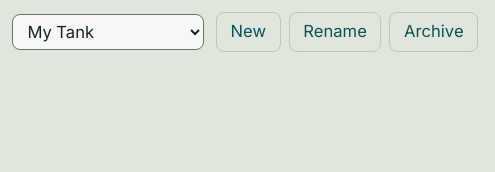
Test: TankSwitcher › creates a new tank via prompt
The width and height of the screenshot is (495, 172).
Click the button "New" at point(248, 32), box [216,12,281,52]
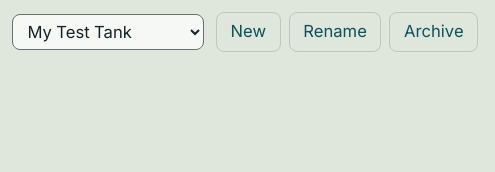
Check: the dropdown named "tank" shows "My Test Tank", box [12,14,204,50]
